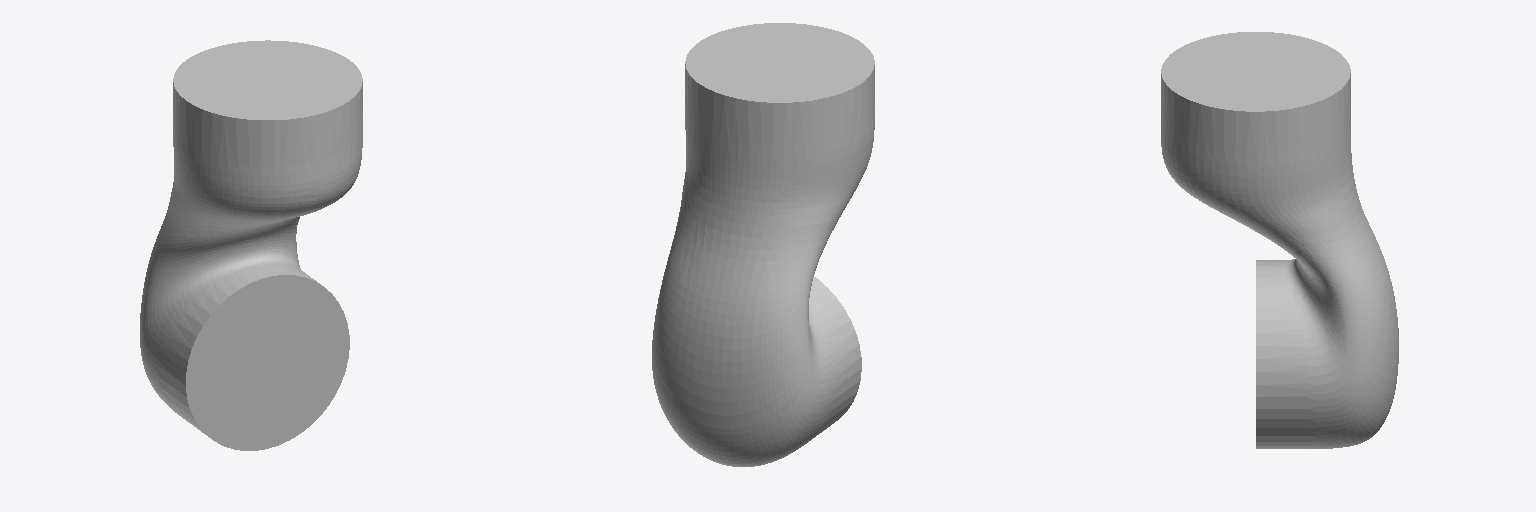
File: wrist_spherical_2.obj
3 views of the same model, side by side, from view 1: azimuth 30°, elevation 25°; view 2: azimuth 150°, elevation 25°; view 3: azimuth 270°, elevation 25° (orthographic).
Bounding box in the file's own units: 0.063 × 0.1351 × 0.0791.